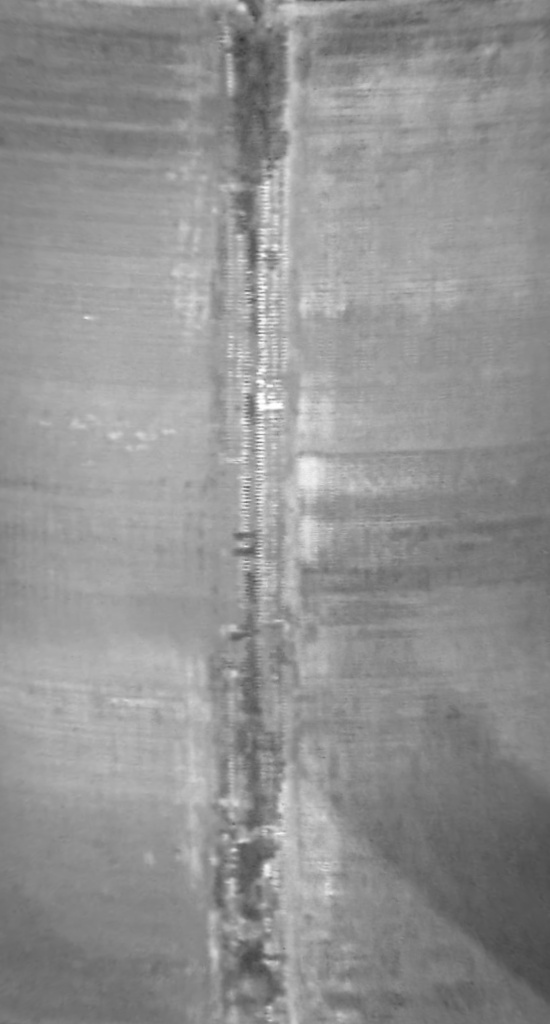splice: (202, 2, 305, 1024)
